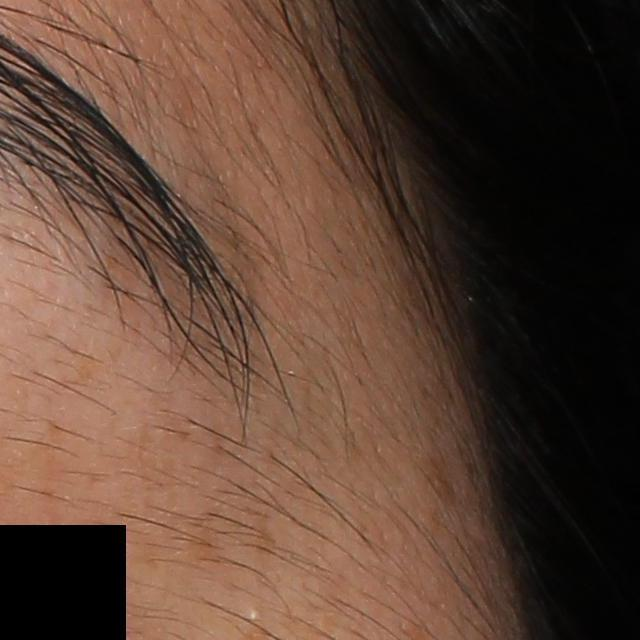comedo: (245, 607, 264, 626)
